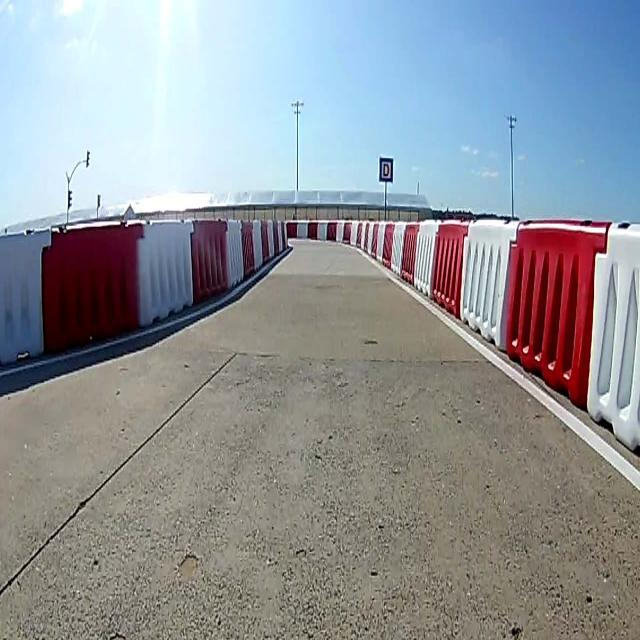durak: (380, 156, 392, 182)
